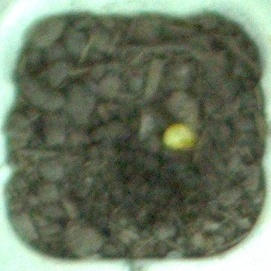chilli seed: (162, 122, 200, 151)
